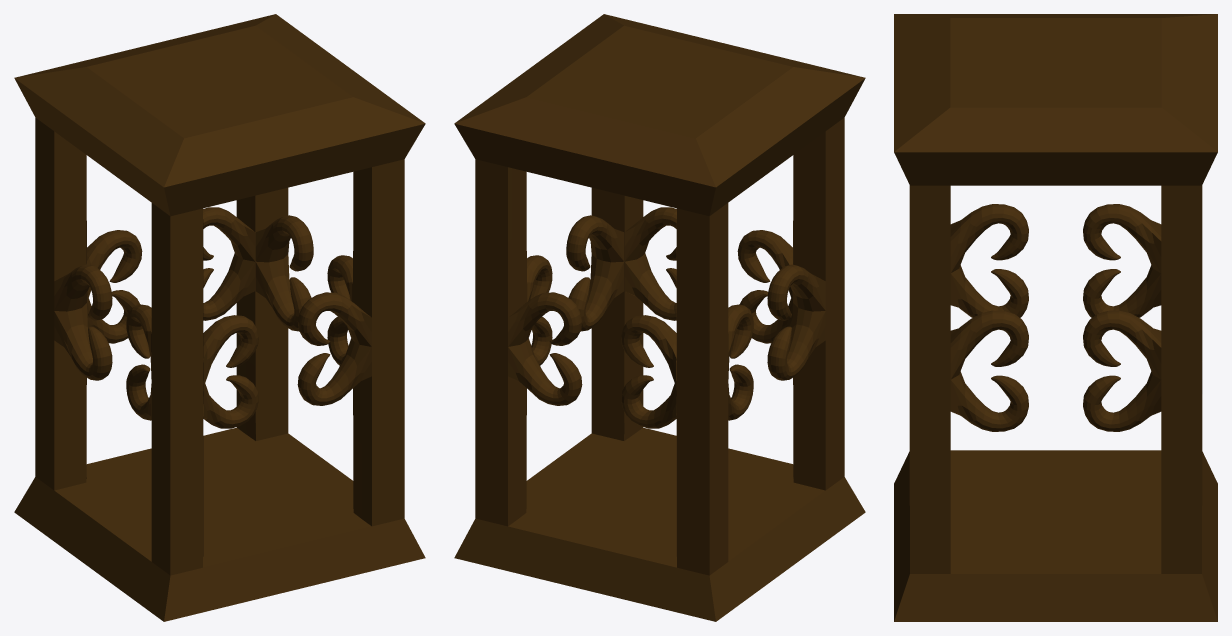
File: Laterne_hohl.fbx
The picture shows the model from 3 angles, left to right: view 1: azimuth 30°, elevation 25°; view 2: azimuth 150°, elevation 25°; view 3: azimuth 270°, elevation 25°; orthographic projection. The views are drawn at different scales.
Visible parts, largest first — view 1: Cube.001; view 2: Cube.001; view 3: Cube.001.
Boxes of the visible parts, x1=… form: Cube.001: x1=14, y1=14, x2=425, y2=621; Cube.001: x1=454, y1=14, x2=865, y2=621; Cube.001: x1=894, y1=14, x2=1217, y2=621.
Size of the model in its own units: 134 by 230 by 132.
